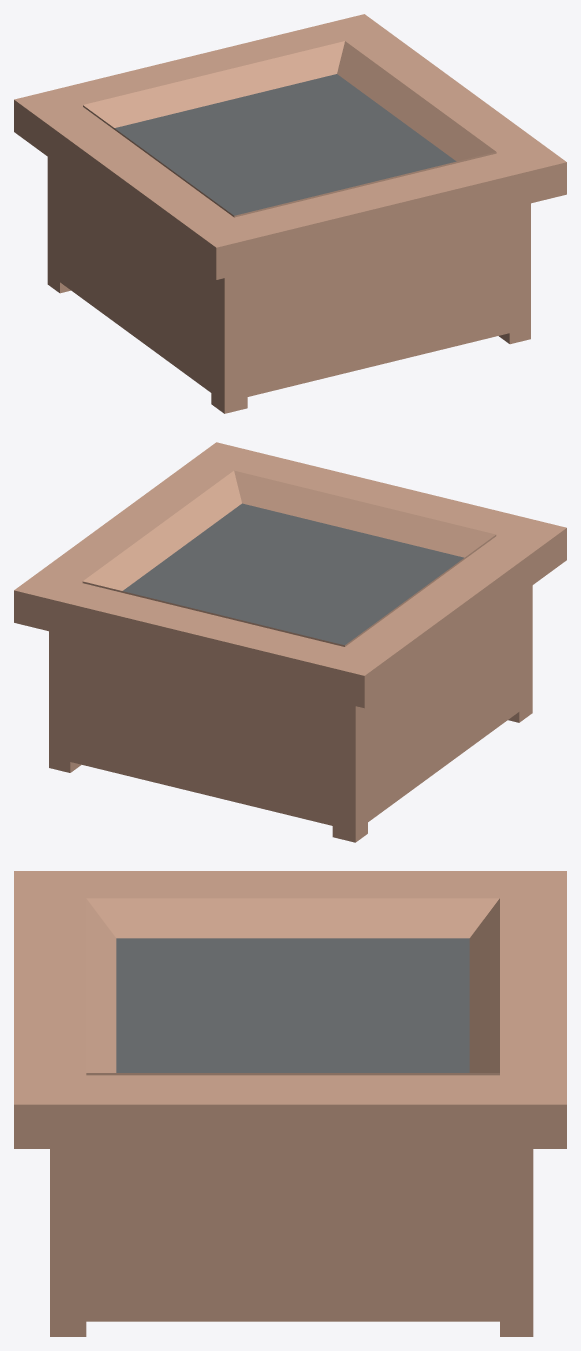
File: source.fbx
The picture shows the model from 3 angles, top to bottom: view 1: azimuth 30°, elevation 25°; view 2: azimuth 150°, elevation 25°; view 3: azimuth 270°, elevation 25°; orthographic projection. The views are drawn at different scales.
Visible parts, largest first — view 1: store; view 2: store; view 3: store.
Part boxes in pixels (x1,y1,x2,y2): store: [14, 14, 566, 413]; store: [14, 442, 566, 842]; store: [14, 871, 566, 1336].
Bounding box in the file's own units: 200 × 99.65 × 200.
